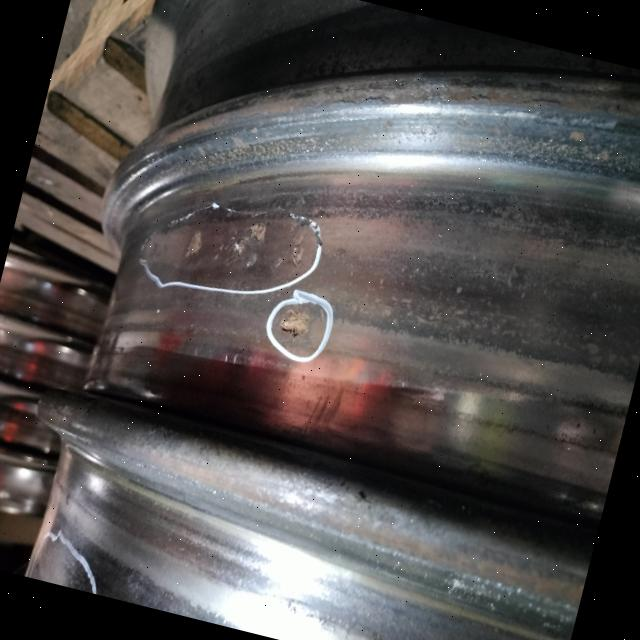Blue hole: (278, 309, 316, 343)
Peeling: (210, 212, 270, 282), (177, 216, 212, 270), (278, 224, 311, 274)
